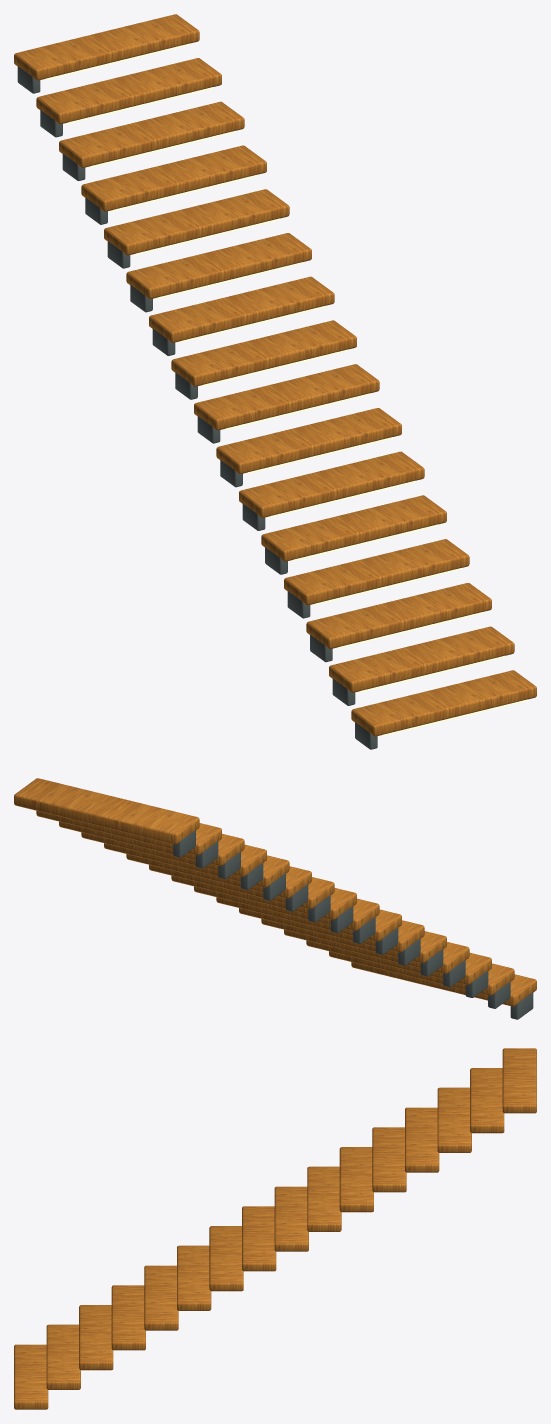
The model's file is stairs-led.glb.
3 views of the same model, one above another, from view 1: azimuth 30°, elevation 25°; view 2: azimuth 150°, elevation 25°; view 3: azimuth 270°, elevation 25° (orthographic). The views are drawn at different scales.
Parts seen in each view (by area): view 1: stairs-led; view 2: stairs-led; view 3: stairs-led.
Part boxes in pixels (left/top/right/bottom): stairs-led: left=14, top=14, right=536, bottom=749; stairs-led: left=14, top=778, right=536, bottom=1019; stairs-led: left=14, top=1048, right=536, bottom=1409.
Size of the model in its own units: 1.1 by 2.8 by 4.2.
Materials: 3 (1 with a texture image).
